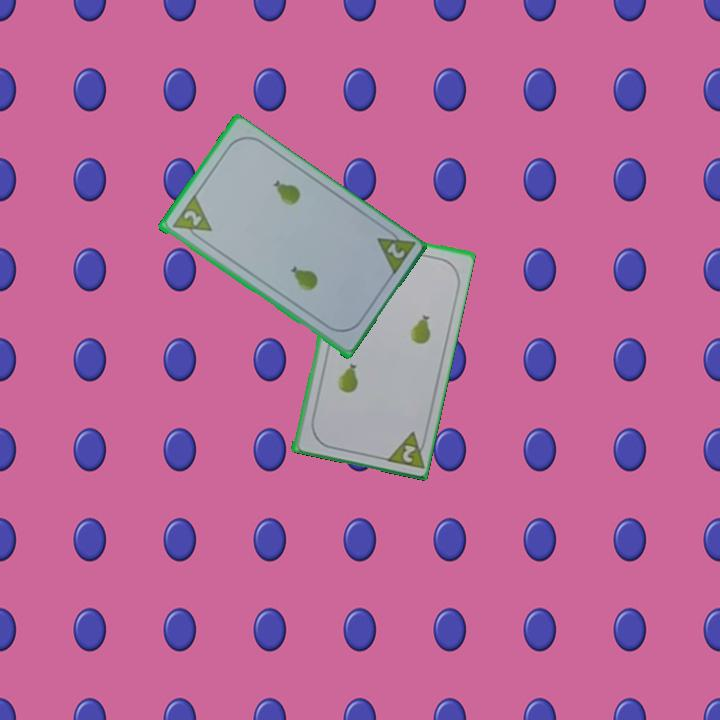2p: (168, 193, 214, 245), (380, 427, 429, 471), (383, 239, 407, 262)
